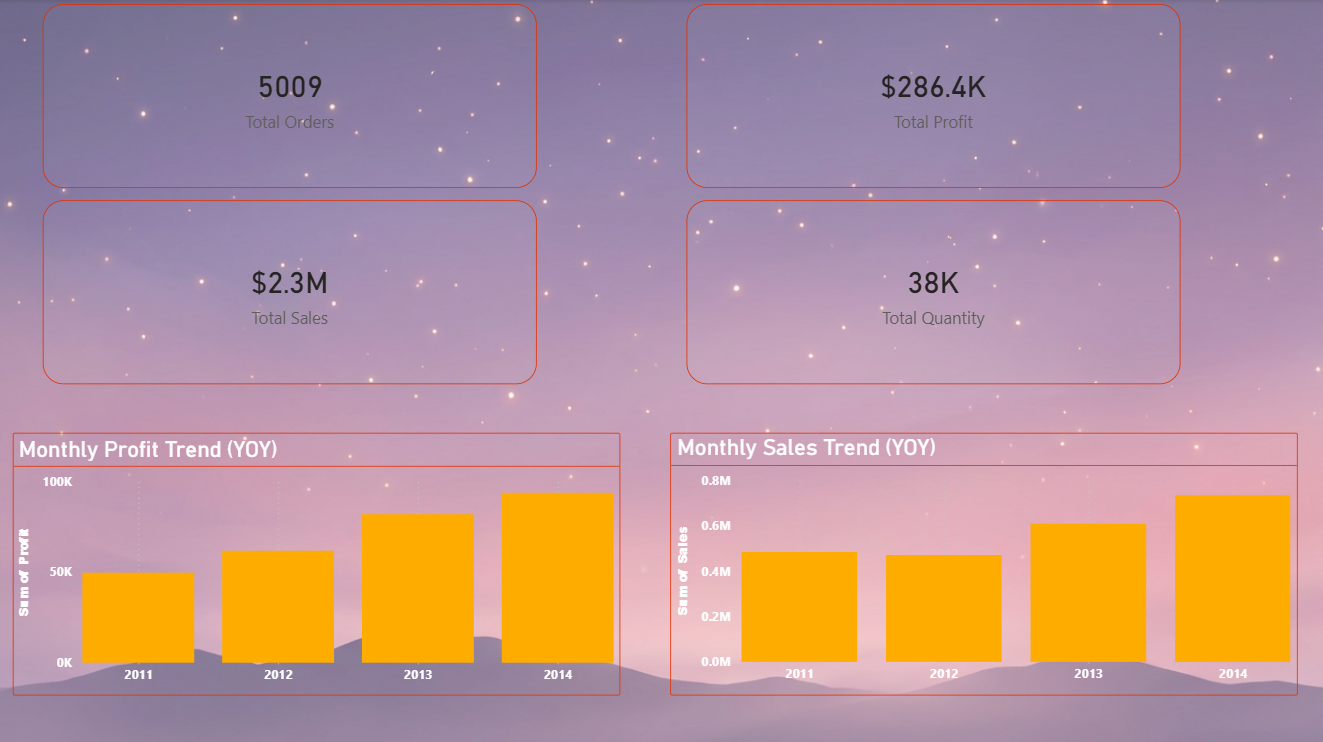

The page's visual inventory and layout, read from the dashboard file:
{"tool":"powerbi","page":{"name":"Kpi and Trend ","canvas":[1280,720],"ordinal":1},"visuals":[{"type":"columnChart","title":"Monthly Profit Trend (YOY)","fields":{"Category":["Orders.Order Date.Variation.Date Hierarchy.Month","Orders.Order Date.Variation.Date Hierarchy.Year"],"Y":["Sum(Orders.Profit)"]},"box":[13.3,418.6,586.3,253.4],"z":0},{"type":"lineClusteredColumnComboChart","title":"Monthly Sales Trend (YOY)","fields":{"Category":["Orders.Order Date.Variation.Date Hierarchy.Month","Orders.Order Date.Variation.Date Hierarchy.Year"],"Y":["Sum(Orders.Sales)"]},"box":[647.9,418.6,605.6,253.4],"z":1000},{"type":"card","fields":{"Values":["Orders.Total Sales"]},"box":[42.2,194.2,476.5,177.3],"z":2000},{"type":"card","fields":{"Values":["Orders.Total Profit"]},"box":[767.3,4.8,476.5,177.3],"z":3000},{"type":"card","fields":{"Values":["Orders.Total Quantity"]},"box":[767.3,195.4,476.5,177.3],"z":4000},{"type":"card","fields":{"Values":["Orders.Total Orders"]},"box":[42.2,4.8,476.5,177.3],"z":5000}]}

Visuals, with their boxes in screenshot pixels (x1, y1, x2, y2), scaled from the page's 1280x720 canvas onto the 1323x742 screenshot:
"Monthly Profit Trend (YOY)" columnChart: <bbox>14, 431, 620, 693</bbox>
"Monthly Sales Trend (YOY)" lineClusteredColumnComboChart: <bbox>670, 431, 1296, 693</bbox>
card - Orders.Total Sales: <bbox>44, 200, 536, 383</bbox>
card - Orders.Total Profit: <bbox>793, 5, 1286, 188</bbox>
card - Orders.Total Quantity: <bbox>793, 201, 1286, 384</bbox>
card - Orders.Total Orders: <bbox>44, 5, 536, 188</bbox>
